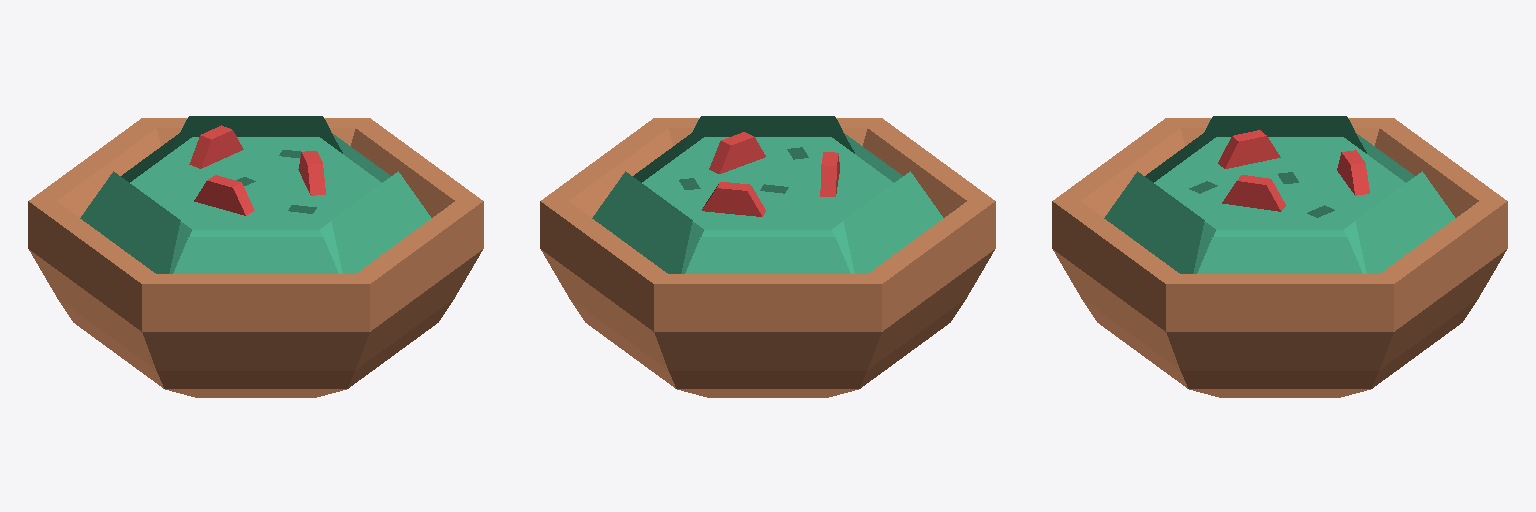
Rendered from salad.obj.
3 views of the same model, side by side, from view 1: azimuth 30°, elevation 25°; view 2: azimuth 150°, elevation 25°; view 3: azimuth 270°, elevation 25° (orthographic).
Parts seen in each view (by area): view 1: salad; view 2: salad; view 3: salad.
Boxes of the visible parts, box(x1,y1,x2,y2) form: salad: box(28, 116, 483, 397); salad: box(540, 116, 995, 397); salad: box(1052, 116, 1507, 397).
Size of the model in its own units: 0.5022 by 0.2734 by 0.5798.